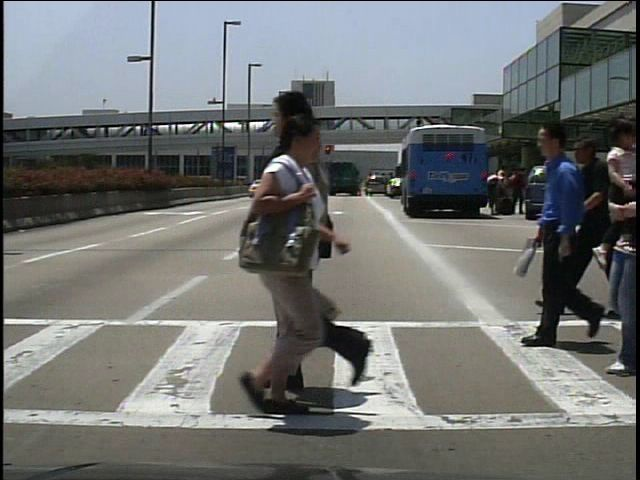person: (232, 85, 389, 407), (209, 114, 343, 420), (252, 118, 378, 350), (510, 114, 622, 348), (554, 130, 626, 322), (582, 168, 602, 218), (486, 161, 504, 214), (508, 166, 526, 216)
